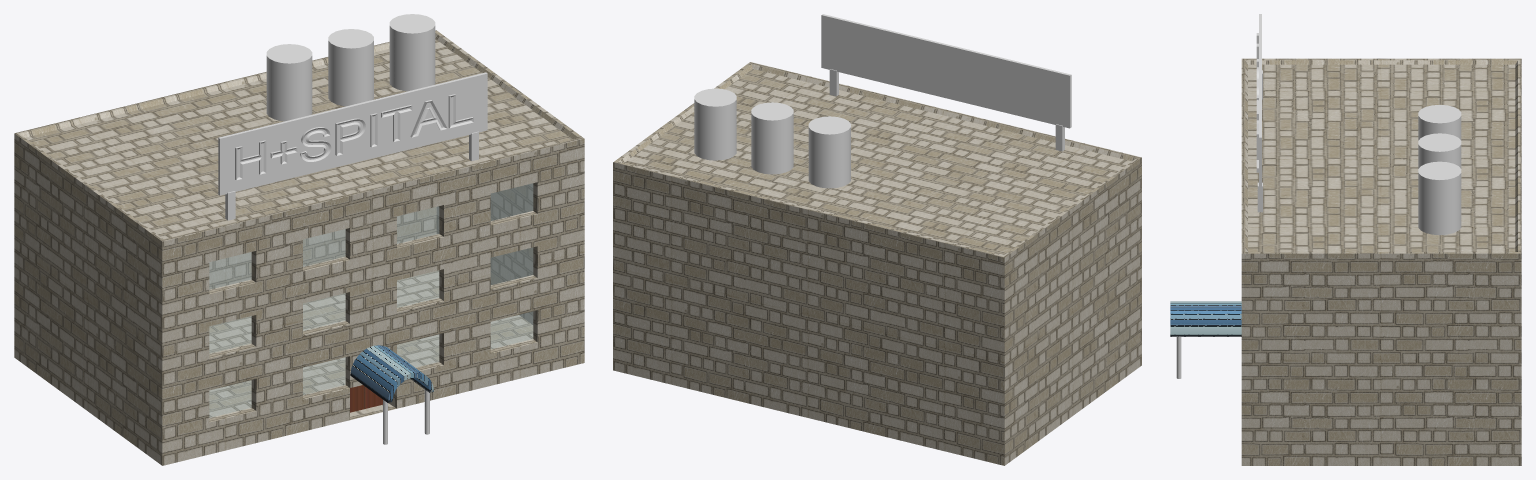
Rendered from Hospital Building TEXTURED.FBX.
3 renders of one model, left to right at view 1: azimuth 30°, elevation 25°; view 2: azimuth 150°, elevation 25°; view 3: azimuth 270°, elevation 25°, orthographic. The views are drawn at different scales.
Parts seen in each view (by area): view 1: Box001, Box002, Cylinder001, Cylinder003, Cylinder002, Text001, Tube001, Object001; view 2: Box001, Box002, Cylinder002, Cylinder001, Cylinder003; view 3: Box001, Cylinder001, Tube001, Cylinder003, Cylinder002, Box002, Text001.
Boxes of the visible parts, bbox=[...] form: Box001: bbox=[14, 30, 584, 465]; Box002: bbox=[218, 72, 487, 195]; Cylinder001: bbox=[389, 14, 435, 91]; Cylinder003: bbox=[266, 44, 312, 121]; Cylinder002: bbox=[328, 29, 373, 106]; Text001: bbox=[235, 94, 473, 180]; Tube001: bbox=[350, 345, 433, 402]; Object001: bbox=[350, 385, 388, 412]; Box001: bbox=[613, 62, 1141, 465]; Box002: bbox=[821, 14, 1071, 128]; Cylinder002: bbox=[751, 102, 793, 174]; Cylinder001: bbox=[694, 88, 736, 160]; Cylinder003: bbox=[808, 116, 850, 188]; Box001: bbox=[1241, 58, 1521, 465]; Cylinder001: bbox=[1418, 161, 1461, 235]; Tube001: bbox=[1170, 301, 1241, 336]; Cylinder003: bbox=[1418, 104, 1461, 140]; Cylinder002: bbox=[1418, 133, 1461, 168]; Box002: bbox=[1259, 14, 1261, 191]; Text001: bbox=[1256, 33, 1258, 172].
Size of the model in its own units: 52.31 by 36.01 by 39.86.
4 materials, 3 textured.
